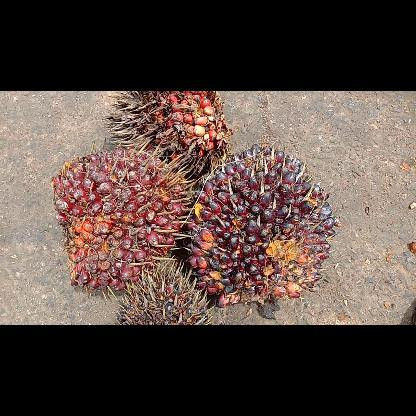Kurang masak: (182, 142, 336, 310)
TBS abnormal: (115, 258, 212, 324)
TBS masak: (48, 148, 188, 292)
Terlalu masak: (103, 92, 235, 180)
